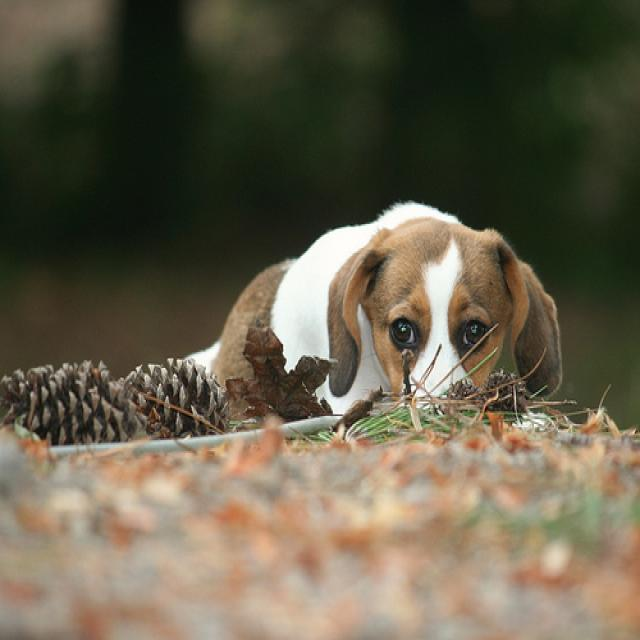dog-beagle: (182, 192, 564, 421)
